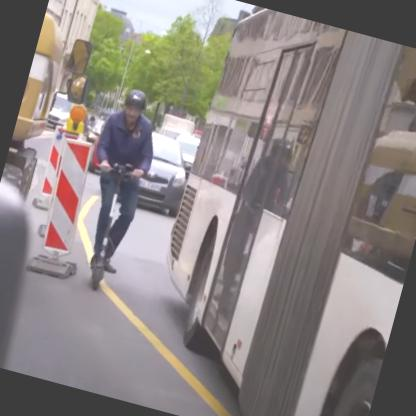helmet: (117, 89, 151, 133)
human: (97, 89, 154, 270)
kickboard: (86, 258, 119, 295)
